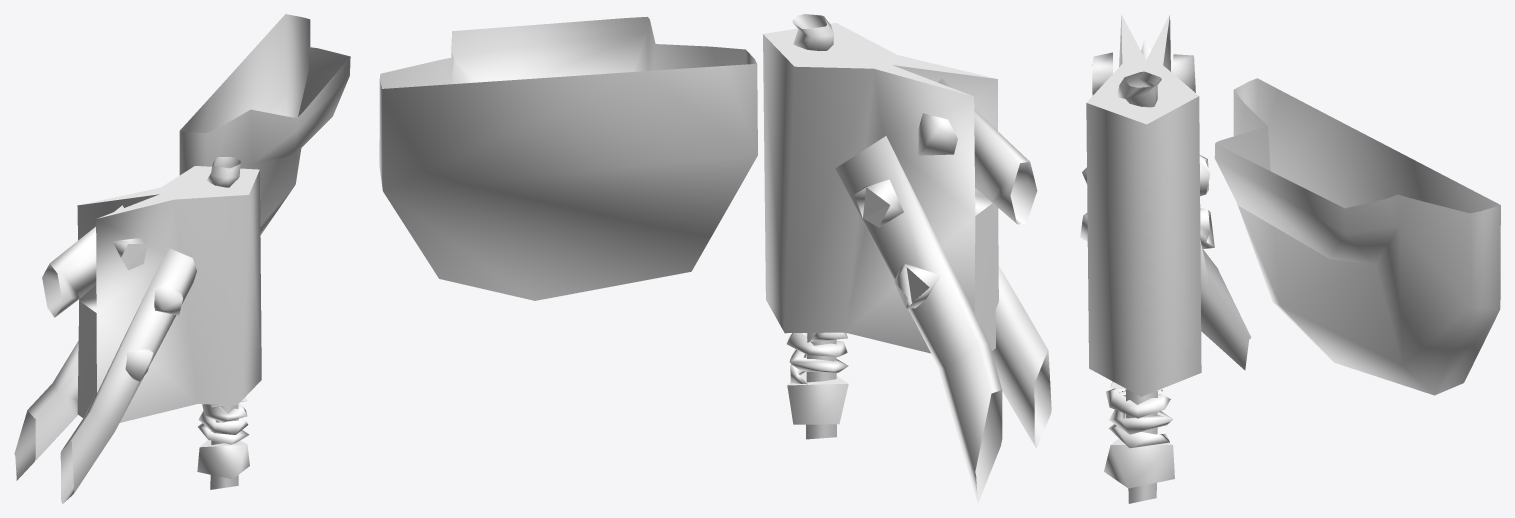
3 renders of one model, left to right at view 1: azimuth 30°, elevation 25°; view 2: azimuth 150°, elevation 25°; view 3: azimuth 270°, elevation 25°, orthographic. The views are drawn at different scales.
Size of the model in its own units: 0.2575 by 0.208 by 0.1891.
1 material, 1 textured.
